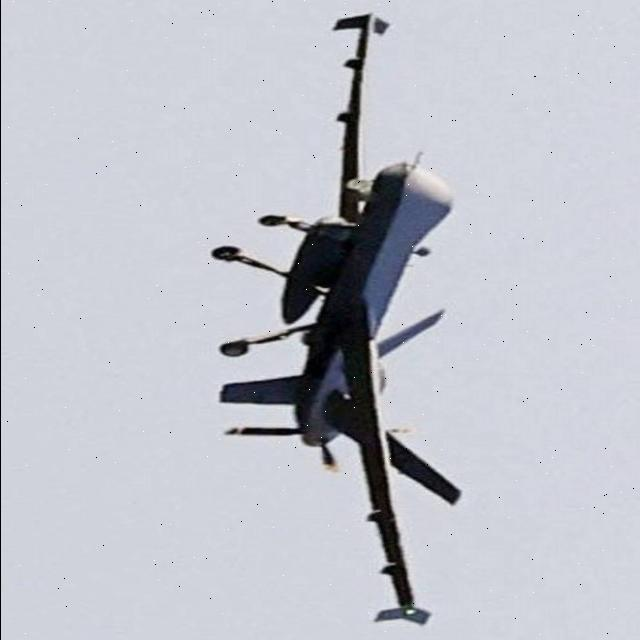MQ9: (170, 0, 498, 640)
